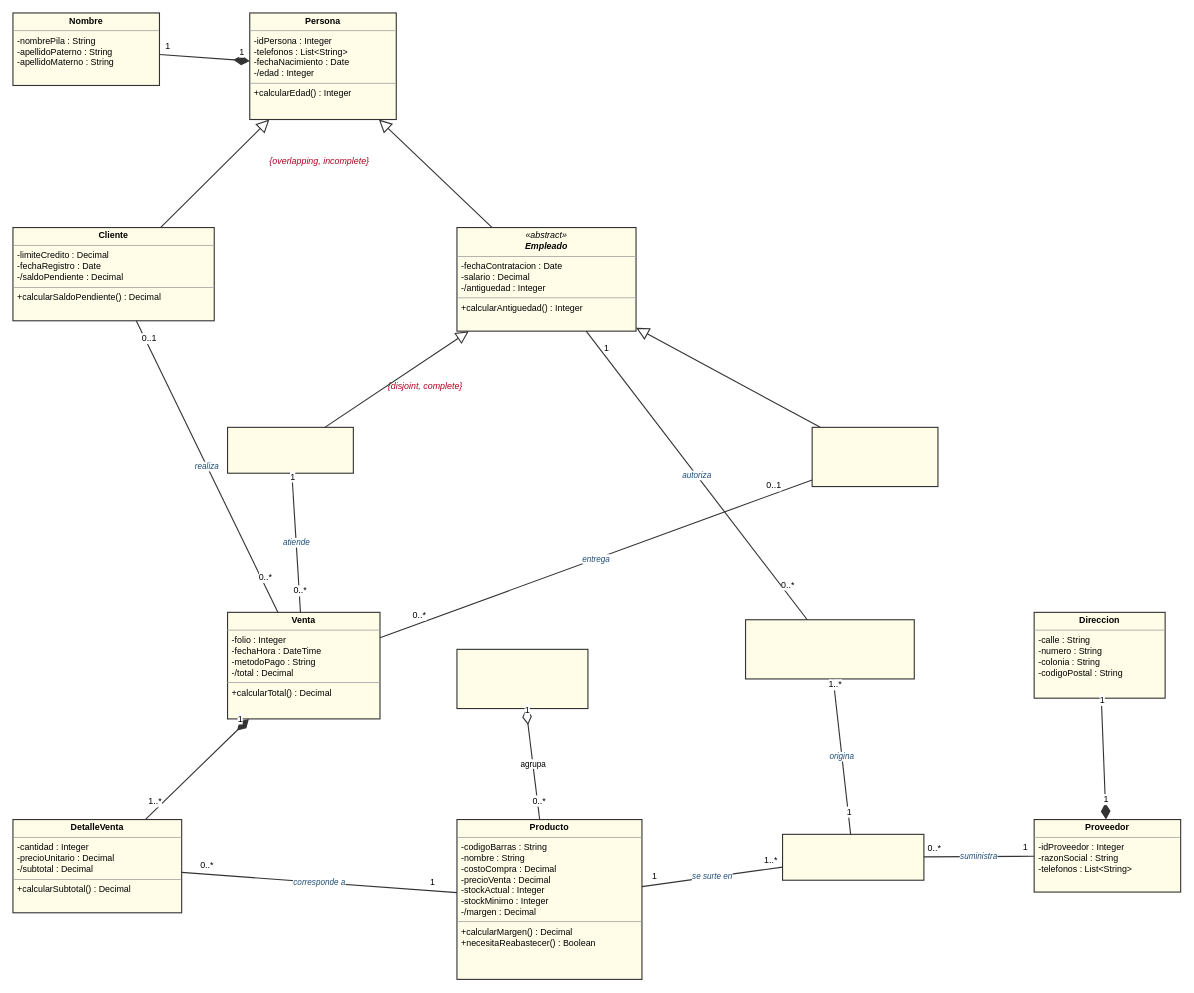
Image size: 1194x993. Some labels were removed from this diagram. The shapes that lost their labels are listed below. From the top down, each one's box as (x1, y1, x2, y2) in pixels, then its label:
(227, 426, 354, 473): Cajero -turno : String
(811, 426, 938, 487): Repartidor -licencia : String -vehiculo : String
(745, 619, 914, 679): PedidoReabastecimiento -fechaPedido : Date -cantidadPedida : Integer
(456, 648, 588, 709): Categoria -idCategoria : Integer -nombreCat : String
(782, 833, 924, 880): Abastecimiento -costoUnitario : Decimal
